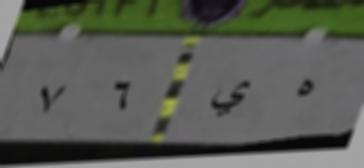6: (109, 73, 139, 121)
7: (34, 78, 70, 120)
haa: (288, 70, 319, 109)
yaa: (204, 76, 253, 121)
